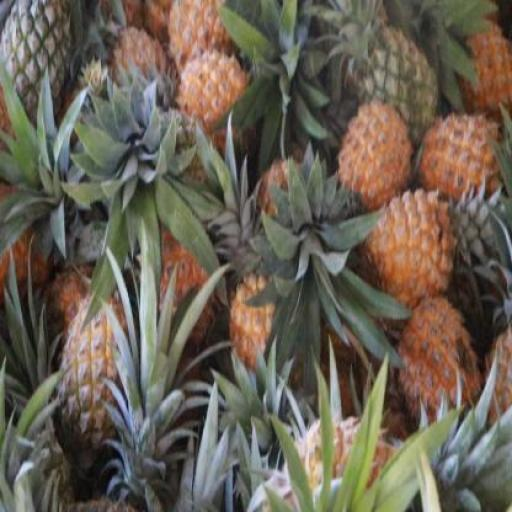------------------------------: (62, 299, 131, 451)
Pineapple - v8 v1: (394, 298, 484, 429), (368, 192, 454, 314), (338, 102, 414, 217), (419, 114, 503, 210), (179, 55, 251, 143)
